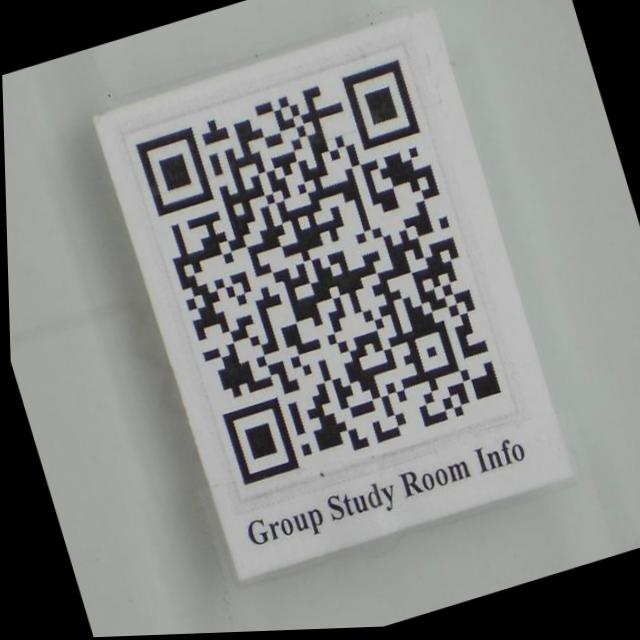qrcode: (133, 60, 505, 491)
